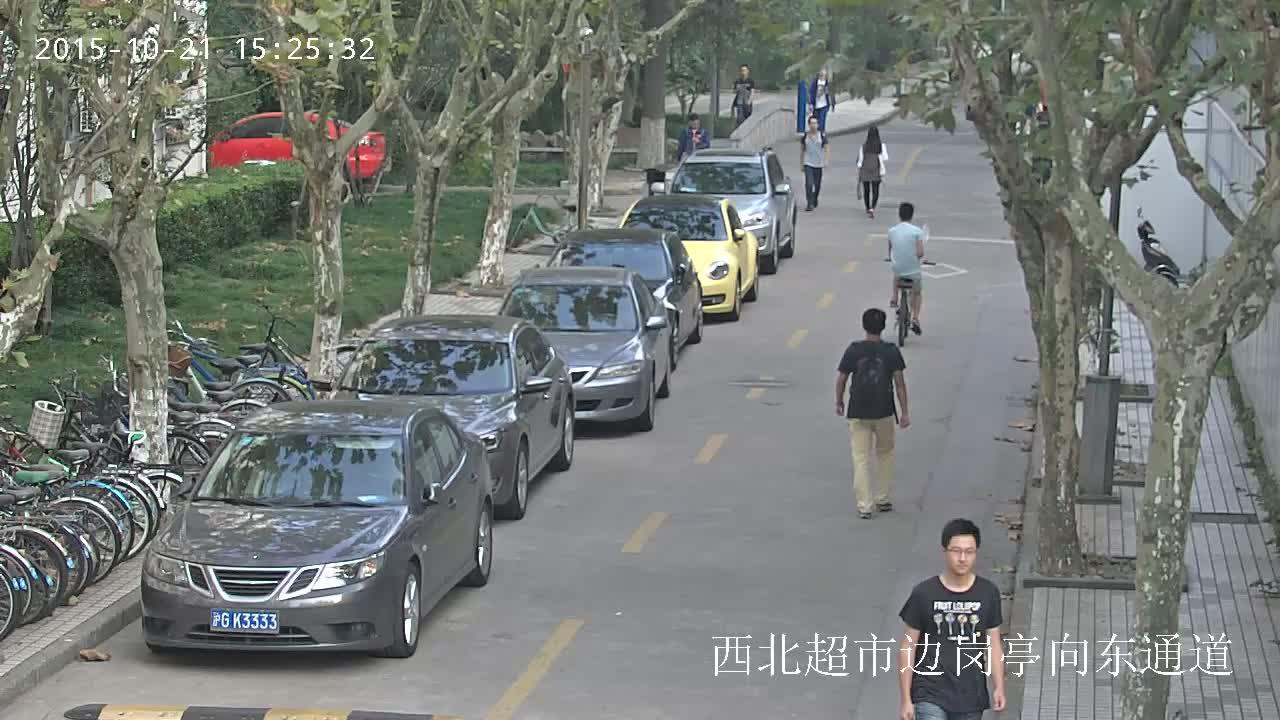person: (898, 518, 1007, 720), (834, 308, 909, 518), (882, 202, 937, 347), (886, 202, 926, 336), (855, 127, 888, 218), (799, 116, 828, 211), (809, 69, 835, 151), (675, 113, 710, 165), (730, 64, 755, 128)
